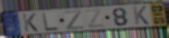8: (112, 7, 130, 27)
K: (21, 13, 40, 33), (132, 5, 150, 25)
L: (41, 12, 60, 33)
Z: (83, 8, 107, 29), (63, 9, 85, 31)
